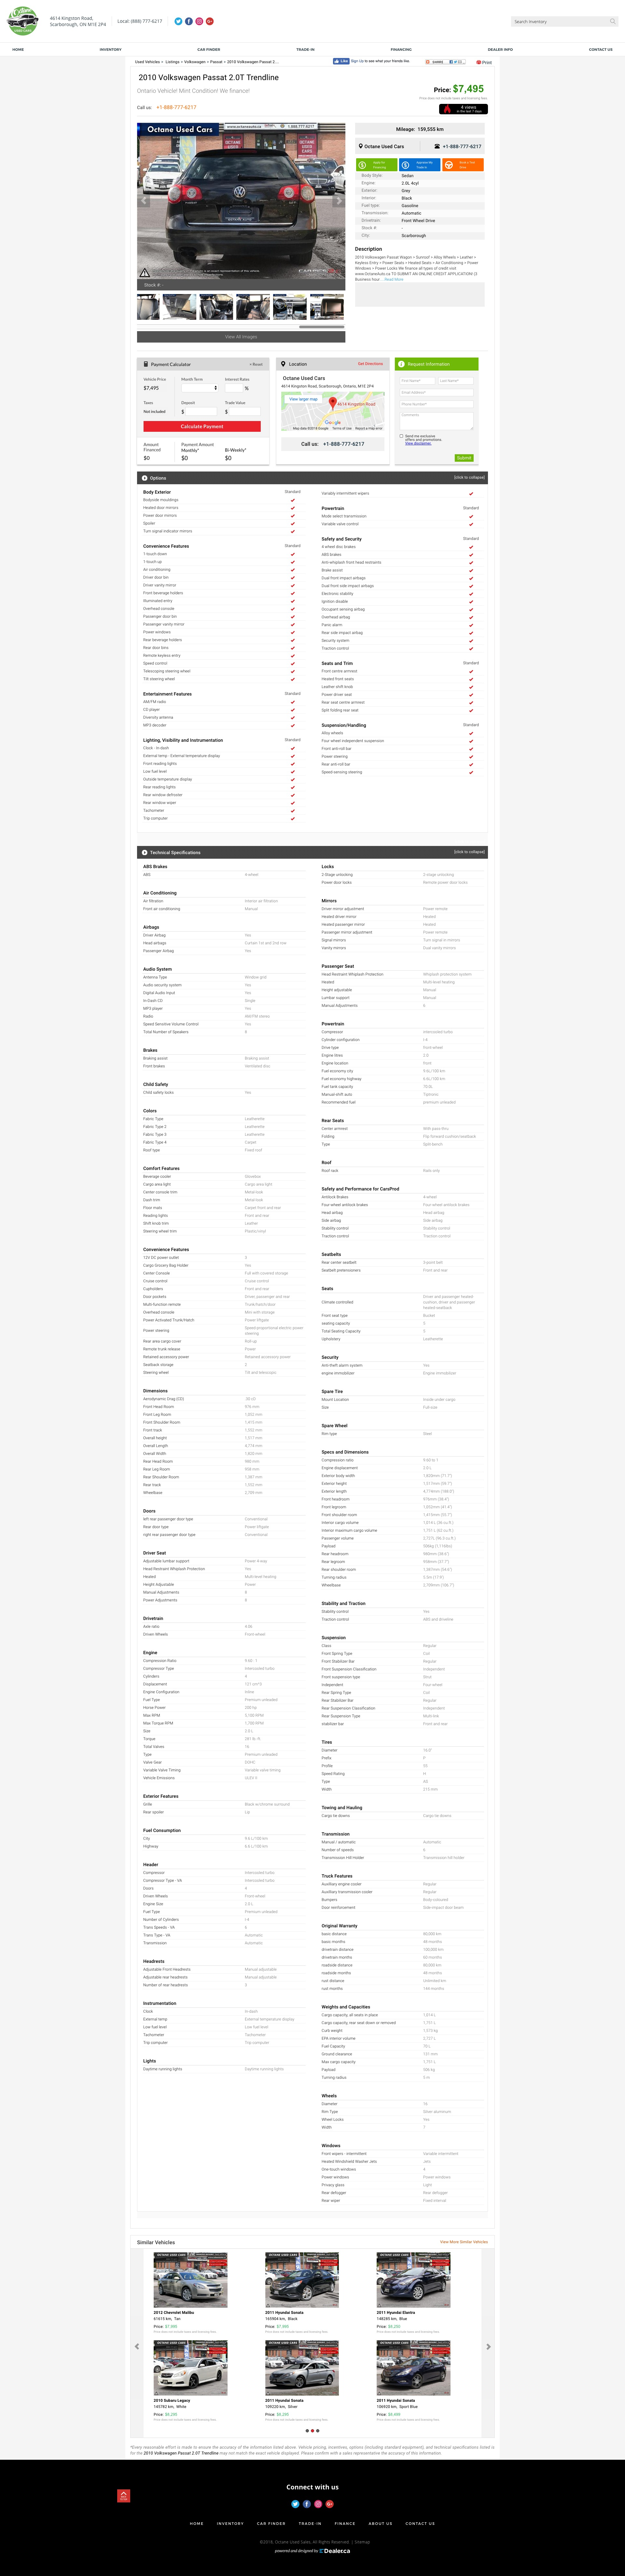car: (336, 197, 343, 205)
